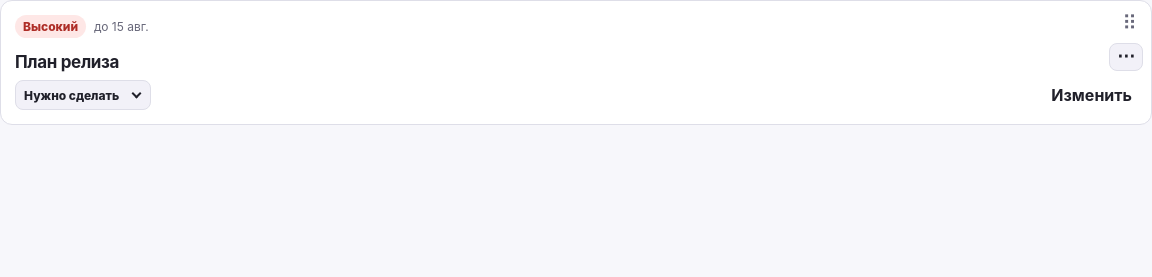
Test case: changes status through a custom dropdown
Click the button with aria-label "Статус задачи «План релиза»: Нужно сделать" at (83, 95), box x1=15 y1=80 x2=151 y2=110
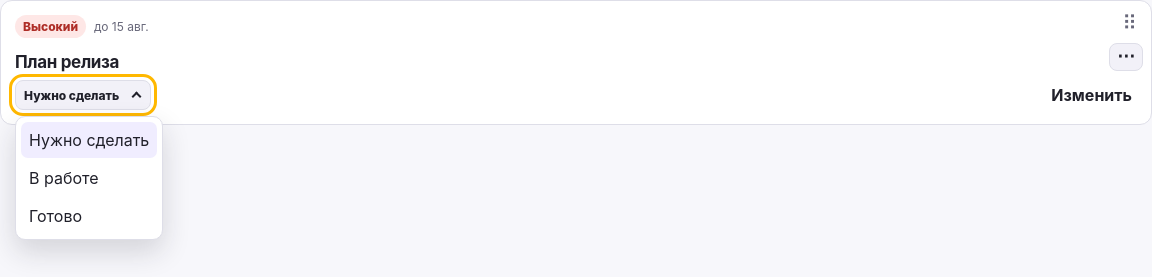
Click the option "В работе" at (89, 178), box x1=21 y1=160 x2=157 y2=196
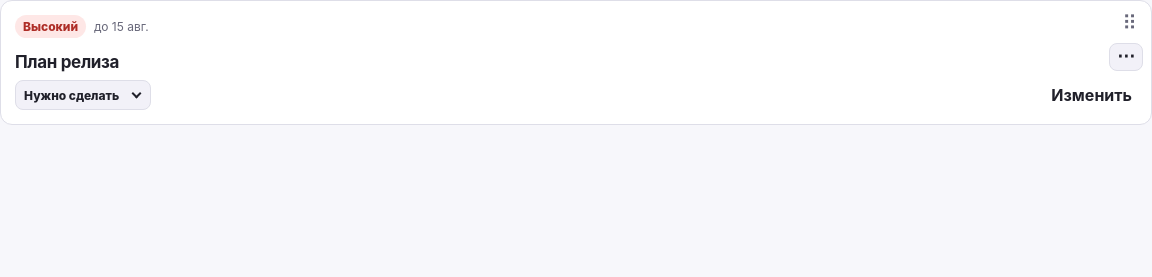
Check: the list is gone
